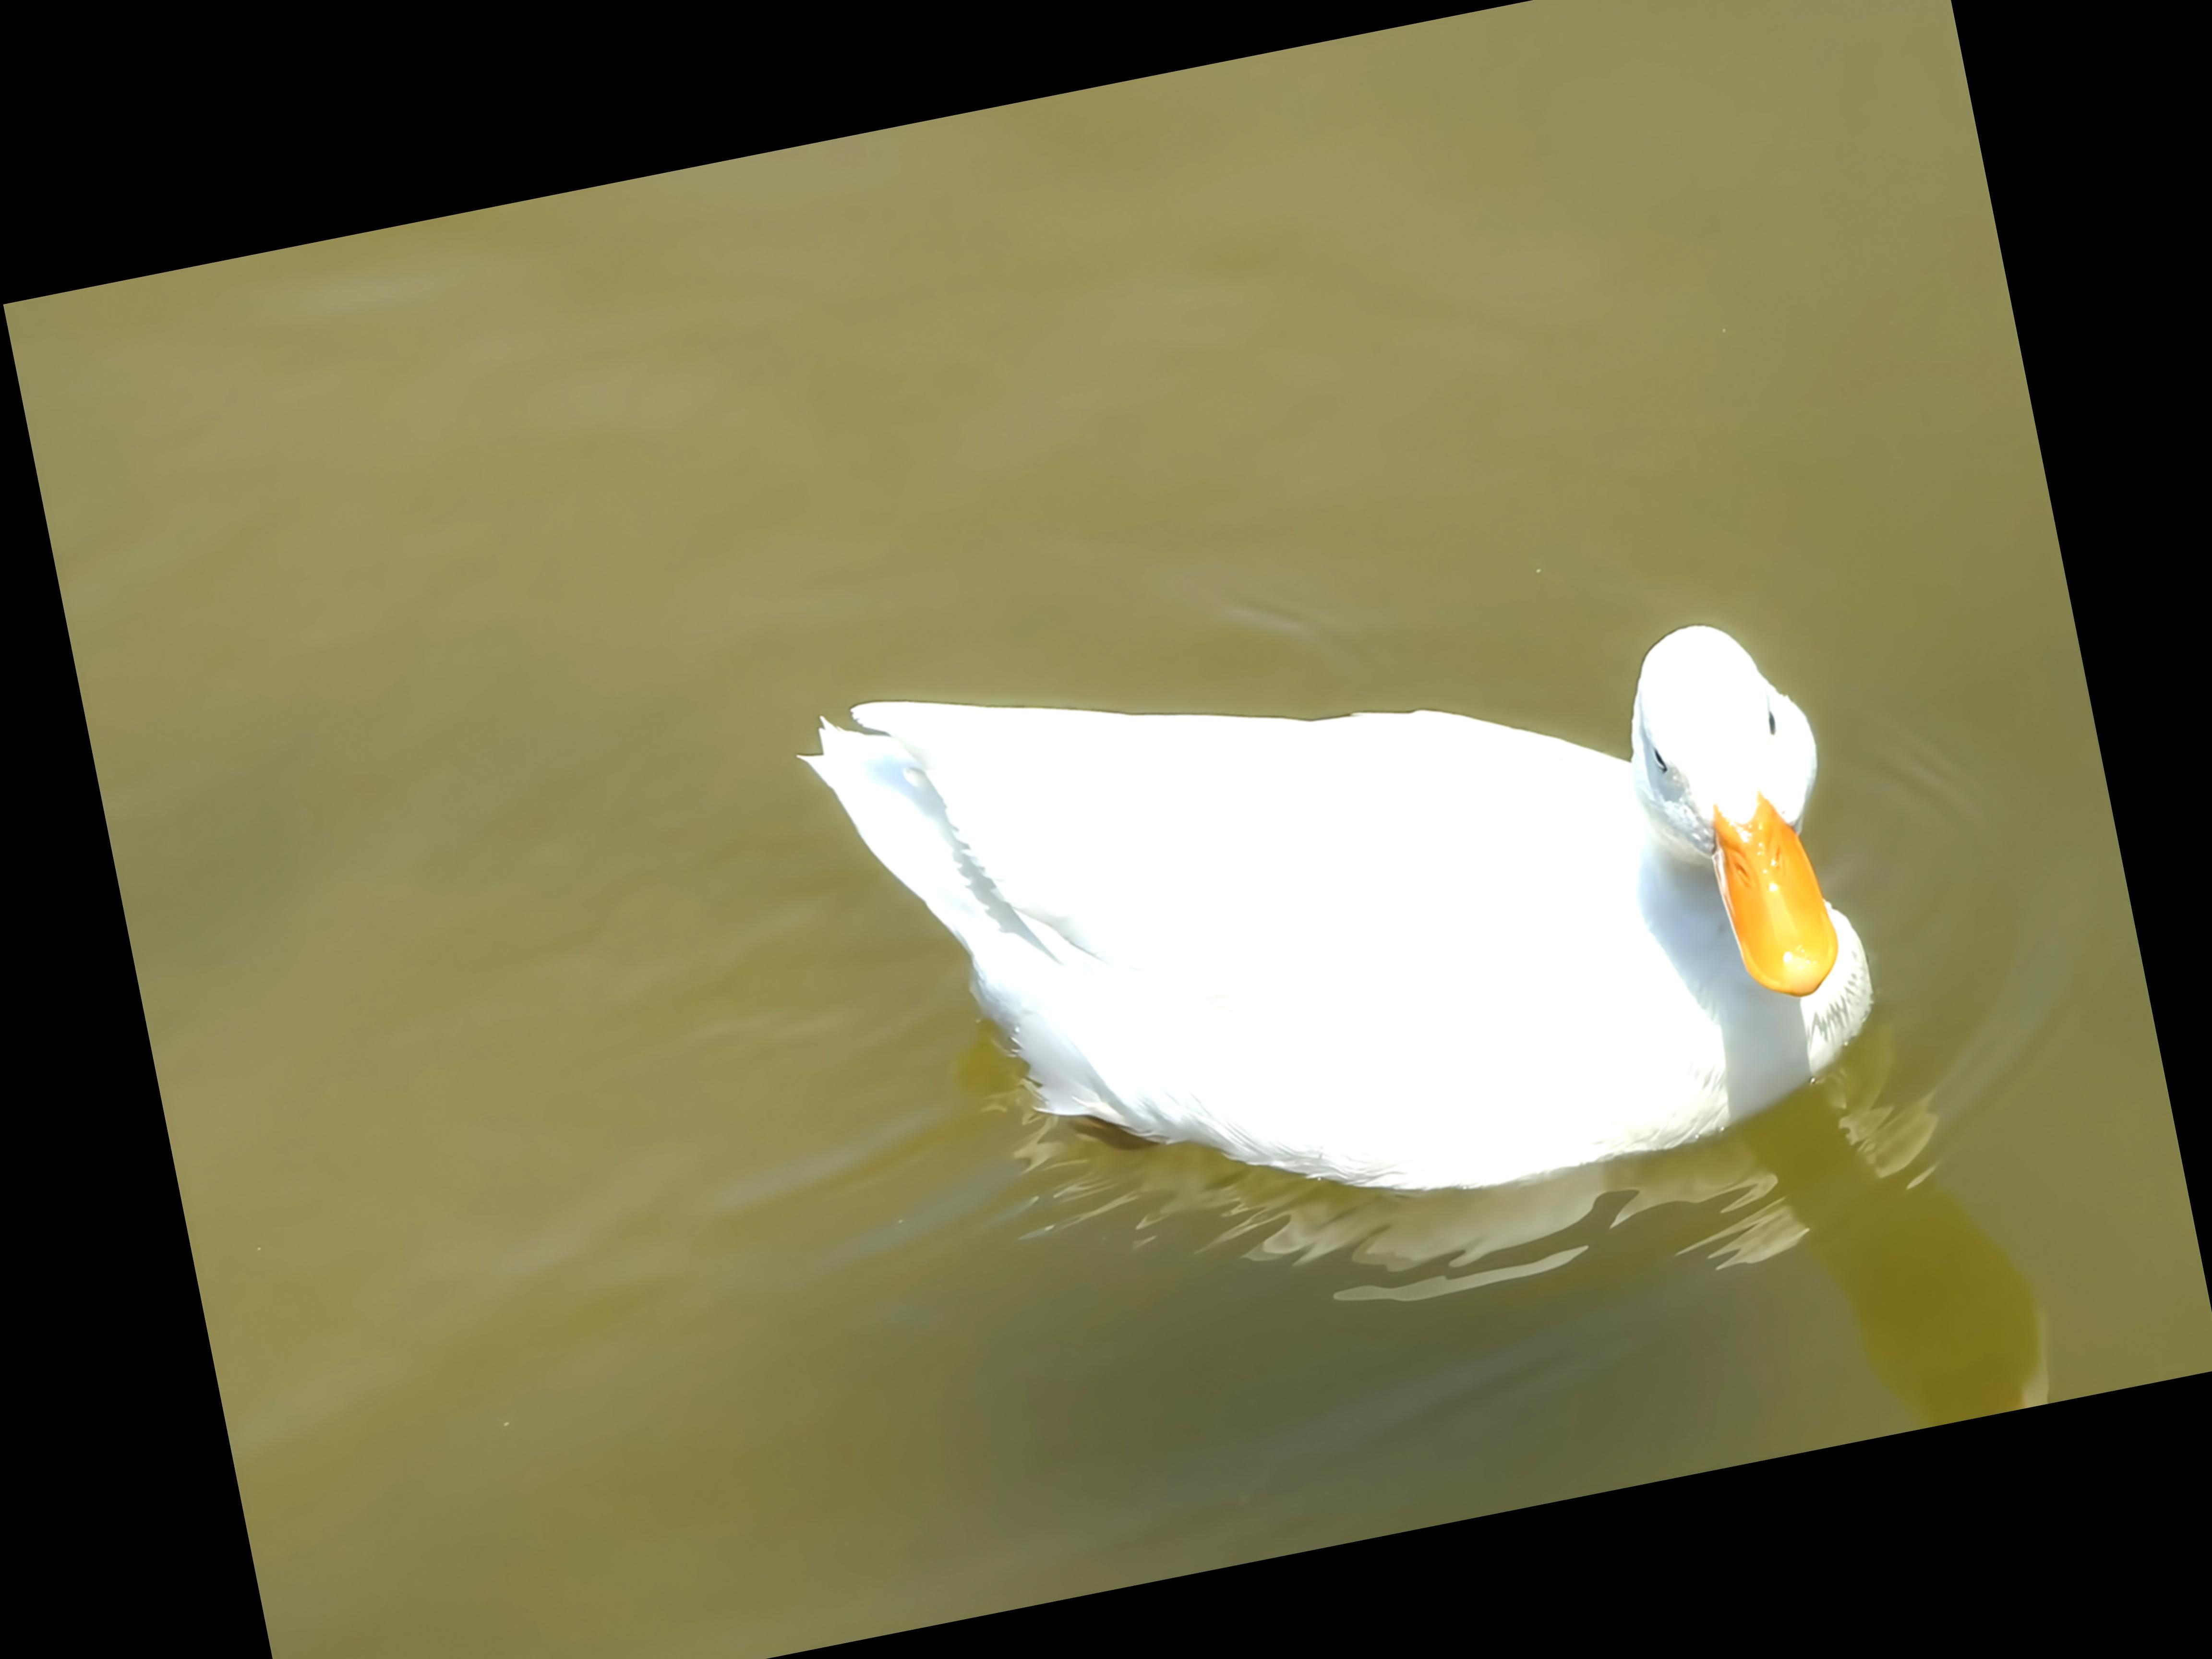duck: (777, 497, 1979, 1368)
